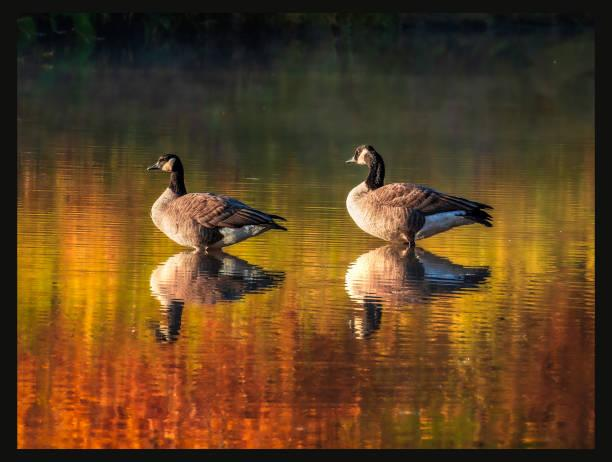Canadian-Goose: (334, 141, 494, 249), (146, 152, 287, 257)
